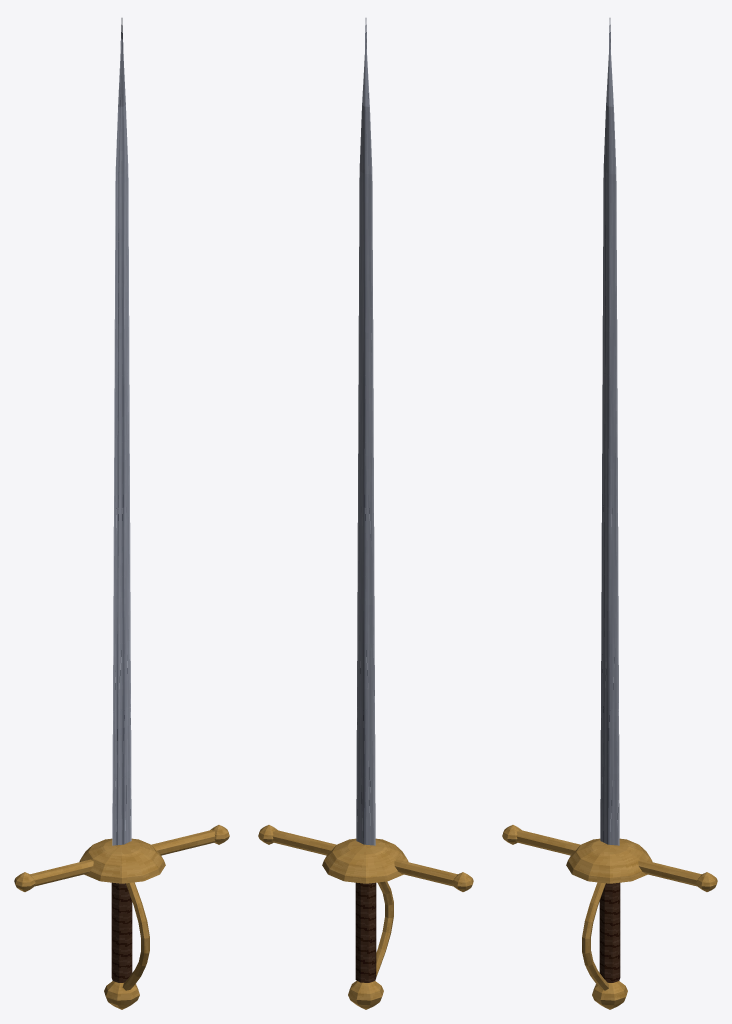
File: rapier.glb
3 renders of one model, left to right at view 1: azimuth 30°, elevation 25°; view 2: azimuth 150°, elevation 25°; view 3: azimuth 330°, elevation 25°, orthographic.
Parts seen in each view (by area): view 1: W_Rapier; view 2: W_Rapier; view 3: W_Rapier.
Boxes of the visible parts, left/top/right/bottom form: W_Rapier: left=14, top=18, right=229, bottom=1009; W_Rapier: left=258, top=18, right=473, bottom=1009; W_Rapier: left=502, top=18, right=717, bottom=1009.
Bounding box in the file's own units: 0.264 × 1.18 × 0.102.
Materials: 3 (3 with a texture image).
